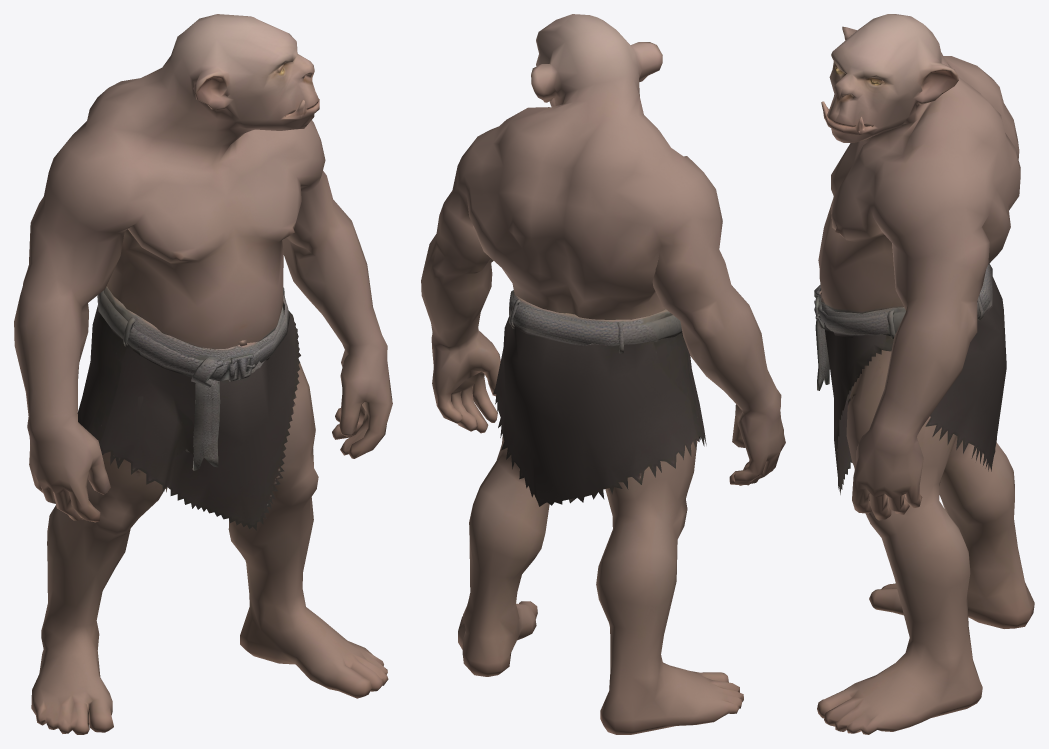
The picture shows the model from 3 angles, left to right: view 1: azimuth 30°, elevation 25°; view 2: azimuth 150°, elevation 25°; view 3: azimuth 270°, elevation 25°; orthographic projection. The views are drawn at different scales.
Parts seen in each view (by area): view 1: tripo_node_94501d8d-ca00-41eb-89e9-79ea066821f3; view 2: tripo_node_94501d8d-ca00-41eb-89e9-79ea066821f3; view 3: tripo_node_94501d8d-ca00-41eb-89e9-79ea066821f3.
Part boxes in pixels (x1,y1,x2,y2): tripo_node_94501d8d-ca00-41eb-89e9-79ea066821f3: (14,14,392,734); tripo_node_94501d8d-ca00-41eb-89e9-79ea066821f3: (421,14,785,734); tripo_node_94501d8d-ca00-41eb-89e9-79ea066821f3: (814,14,1034,734).
Size of the model in its own units: 0.5527 by 0.998 by 0.3066.
Materials: 1 (1 with a texture image).
